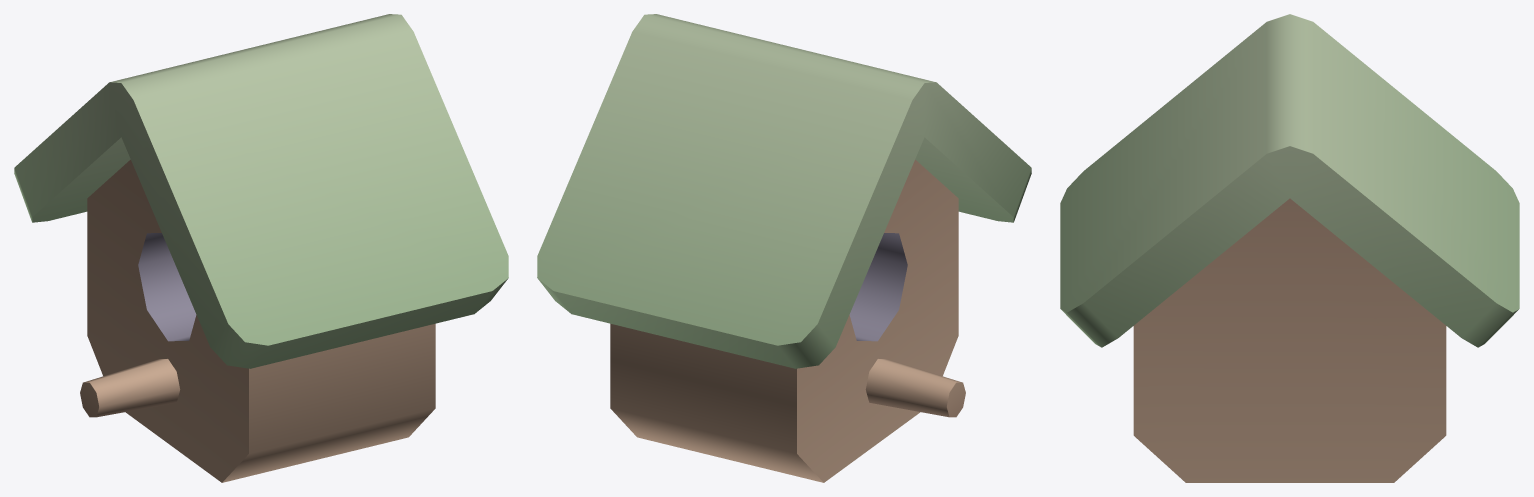
The model's file is bird-house (%wall).glb.
3 renders of one model, left to right at view 1: azimuth 30°, elevation 25°; view 2: azimuth 150°, elevation 25°; view 3: azimuth 270°, elevation 25°, orthographic. The views are drawn at different scales.
Parts seen in each view (by area): view 1: bird-house (%wall); view 2: bird-house (%wall); view 3: bird-house (%wall).
Boxes of the visible parts, <box> form: bird-house (%wall): <box>14,14,508,482</box>; bird-house (%wall): <box>537,14,1031,482</box>; bird-house (%wall): <box>1060,14,1519,482</box>.
Size of the model in its own units: 0.334 by 0.3804 by 0.4412.
